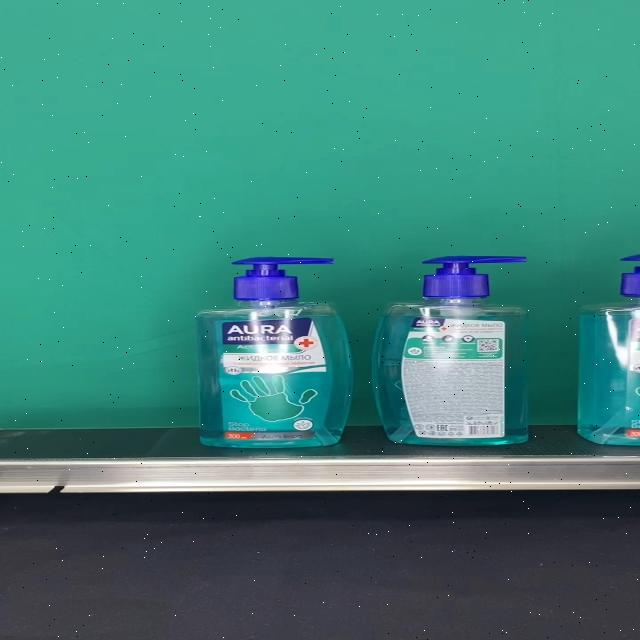Bottle: (194, 257, 353, 449), (372, 255, 530, 445)
Cap: (230, 257, 332, 300), (423, 256, 527, 296)
